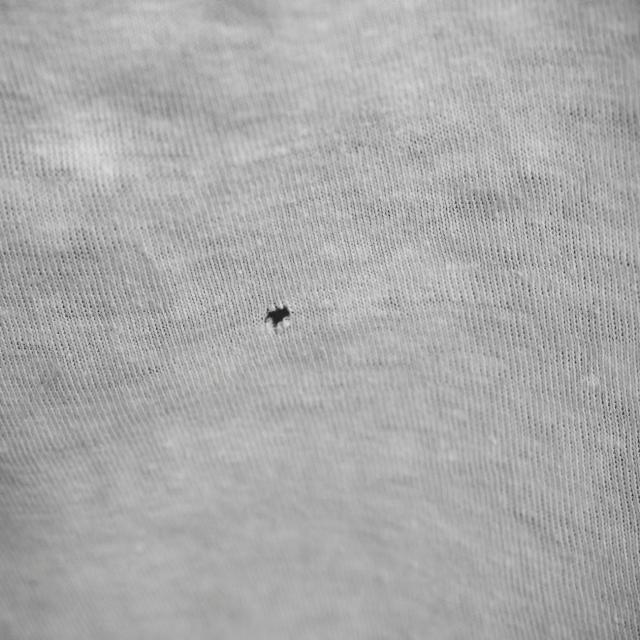Hole: (264, 305, 290, 335)
